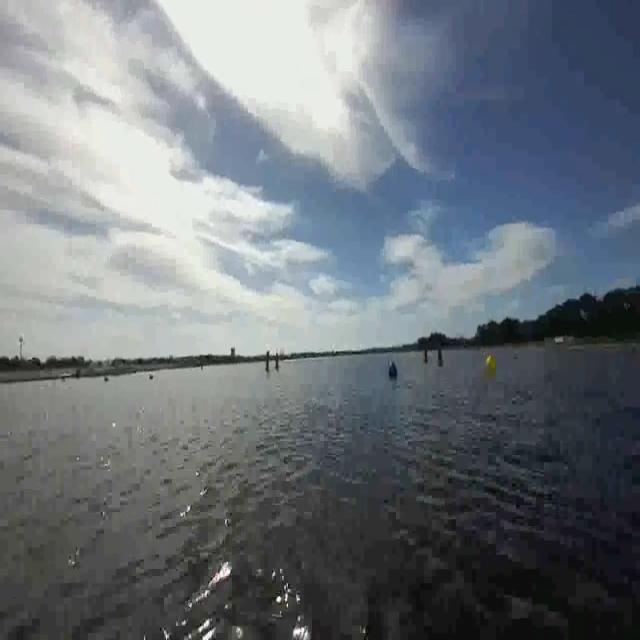blue-buoy: (385, 360, 395, 379)
yellow-buoy: (487, 354, 497, 373)
